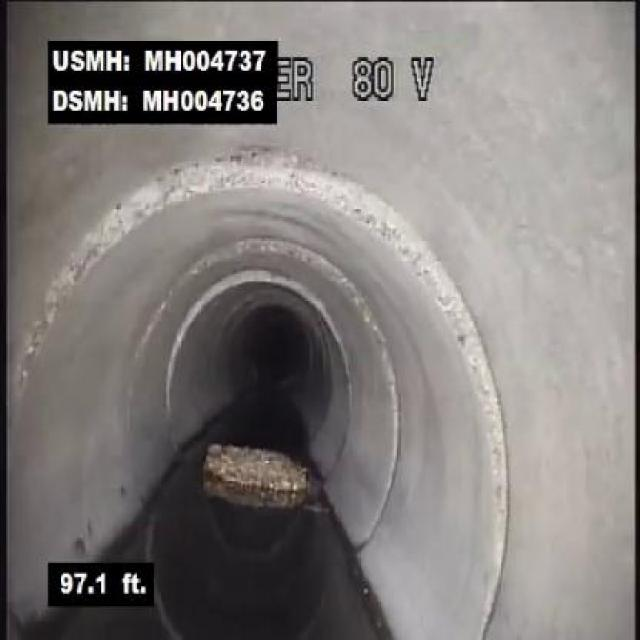Obstacle: (196, 423, 326, 528)
